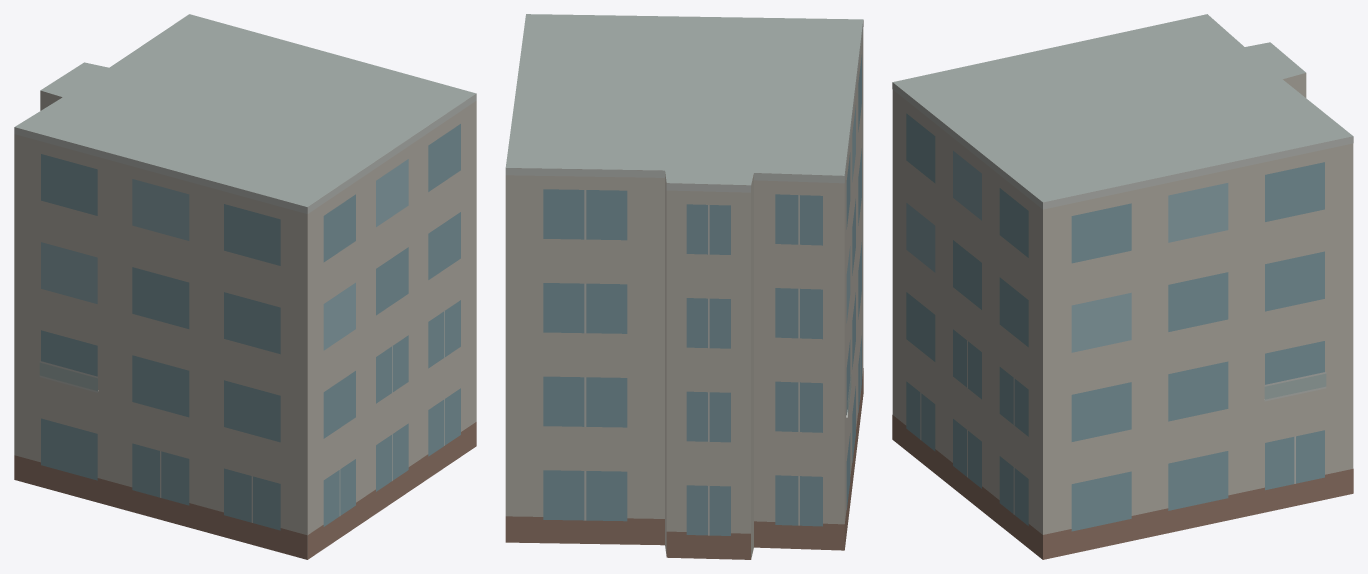
The model's file is survey-upis-32741616.glb.
The picture shows the model from 3 angles, left to right: view 1: azimuth 30°, elevation 25°; view 2: azimuth 150°, elevation 25°; view 3: azimuth 270°, elevation 25°; orthographic projection. The views are drawn at different scales.
Visible parts, largest first — view 1: survey-upis-32741616.tmp; view 2: survey-upis-32741616.tmp; view 3: survey-upis-32741616.tmp.
Boxes of the visible parts, x1,y1,x2,y2 form: survey-upis-32741616.tmp: (14,14,476,559); survey-upis-32741616.tmp: (505,14,863,559); survey-upis-32741616.tmp: (892,14,1353,559).
Bounding box in the file's own units: 13.8 × 12.2 × 14.27.
